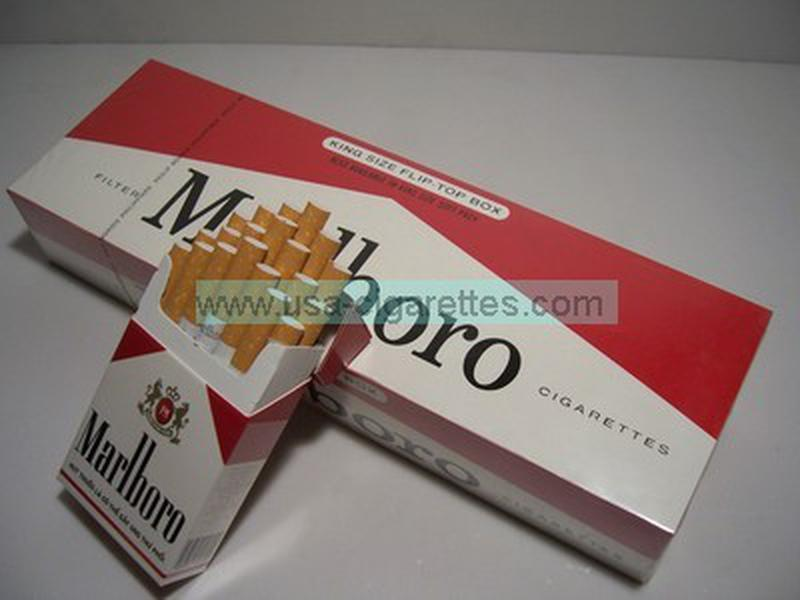marlboro_red: (72, 297, 247, 552)
